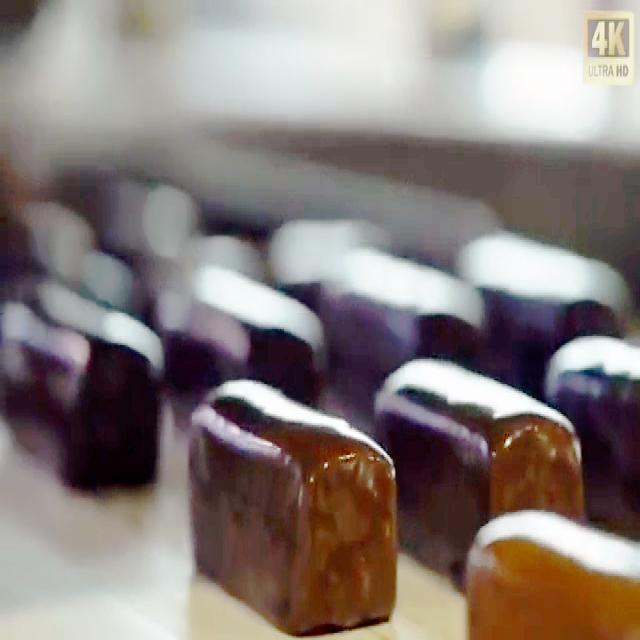Choco: (184, 371, 400, 633), (6, 268, 169, 512), (374, 350, 585, 523), (462, 505, 638, 635), (199, 245, 330, 408), (346, 232, 474, 383), (476, 208, 616, 342), (542, 328, 636, 515)
